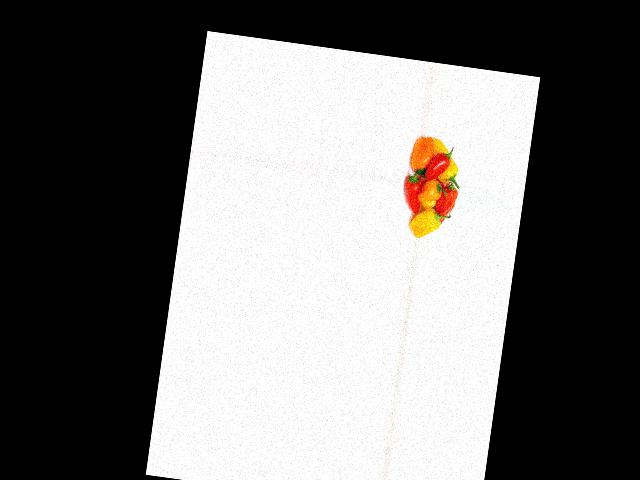bell_pepper: (428, 138, 464, 184)
